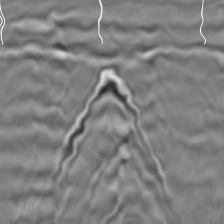Utility: (54, 65, 169, 224)
